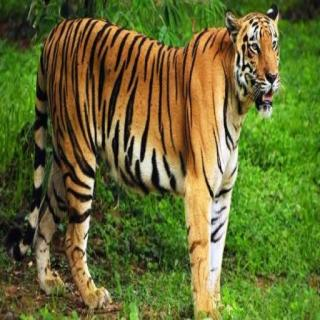Tiger: (15, 7, 312, 320)
